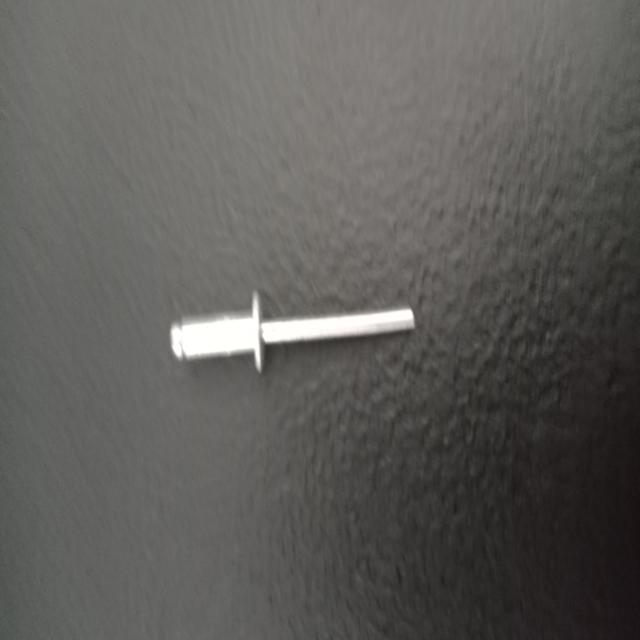rivet: (170, 287, 416, 371)
